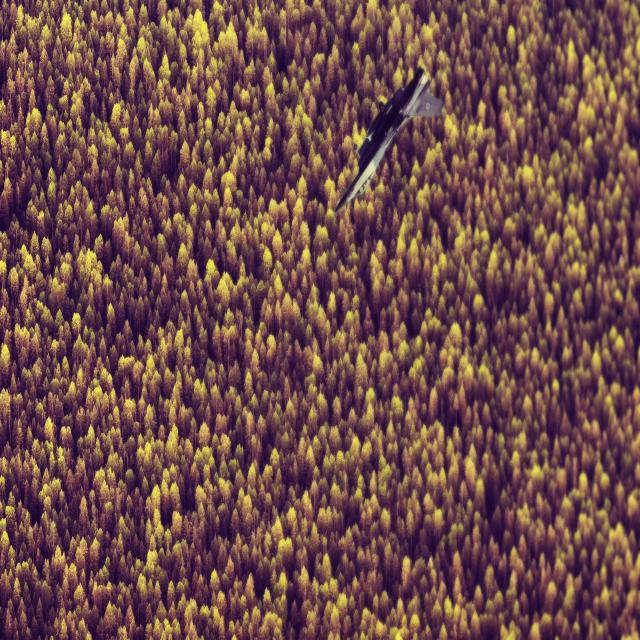airplane: (333, 66, 444, 214)
